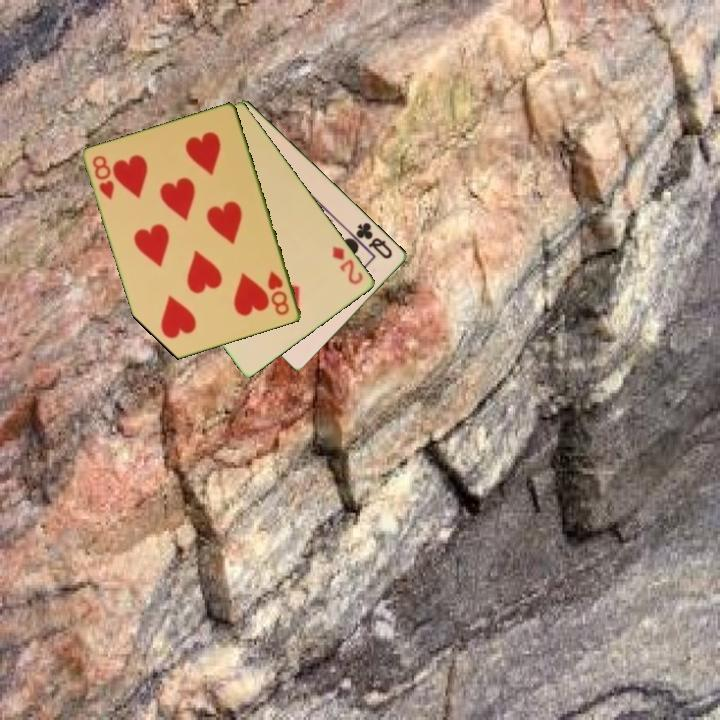2d: (329, 243, 366, 288)
8h: (89, 152, 118, 203), (264, 268, 293, 318)
Qc: (353, 219, 396, 262)
